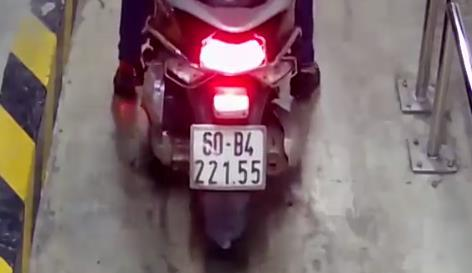lisence: (188, 122, 267, 190)
